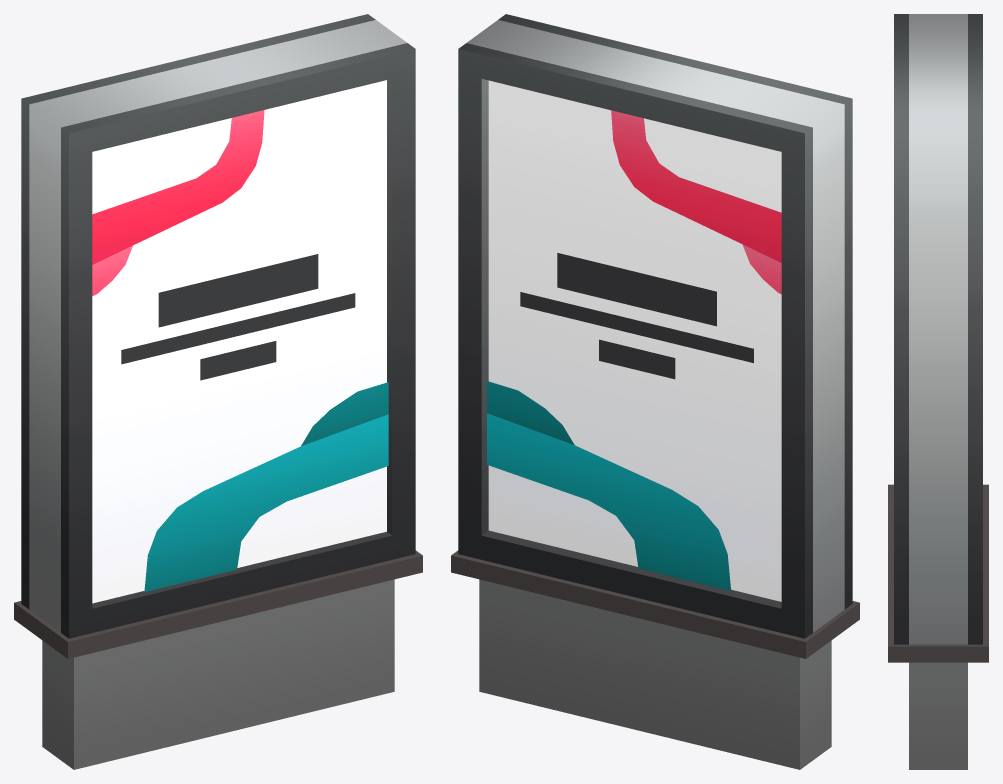
Rendered from city2-billboard-01.glb.
The picture shows the model from 3 angles, left to right: view 1: azimuth 30°, elevation 25°; view 2: azimuth 150°, elevation 25°; view 3: azimuth 270°, elevation 25°; orthographic projection. The views are drawn at different scales.
Parts seen in each view (by area): view 1: Billboard_01; view 2: Billboard_01; view 3: Billboard_01.
Part boxes in pixels (box(x1,y1,x2,y2)): Billboard_01: box(14, 14, 422, 769); Billboard_01: box(451, 14, 859, 769); Billboard_01: box(888, 14, 988, 769).
Size of the model in its own units: 1.19 by 2.06 by 0.3123.
Materials: 1 (1 with a texture image).
